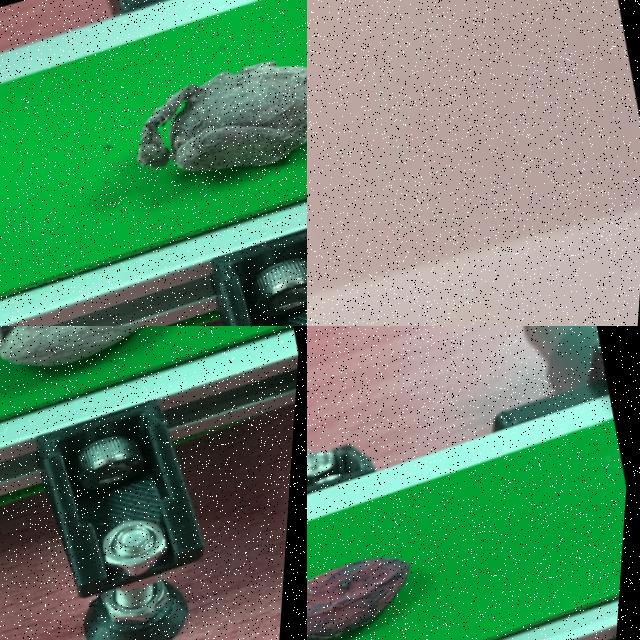Agglomerated_cocoabeans: (28, 0, 306, 272), (0, 326, 269, 437)
Fine_cocoabeans: (307, 488, 573, 639)
